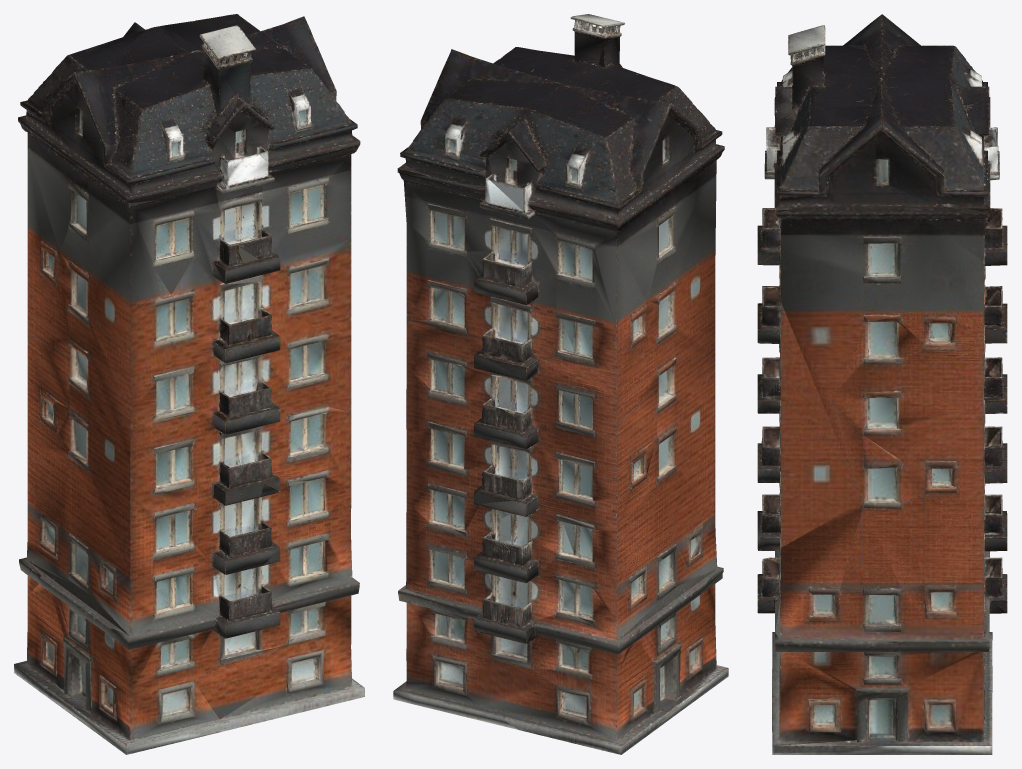
Rendered from arch_apartment_01.glb.
The picture shows the model from 3 angles, left to right: view 1: azimuth 30°, elevation 25°; view 2: azimuth 150°, elevation 25°; view 3: azimuth 270°, elevation 25°; orthographic projection. The views are drawn at different scales.
Parts seen in each view (by area): view 1: output_unwrapped; view 2: output_unwrapped; view 3: output_unwrapped.
Part boxes in pixels (left/top/right/bottom): output_unwrapped: left=14, top=14, right=364, bottom=754; output_unwrapped: left=393, top=14, right=728, bottom=754; output_unwrapped: left=757, top=14, right=1007, bottom=754.
Size of the model in its own units: 9.23 by 25 by 8.53.
1 material, 1 textured.
